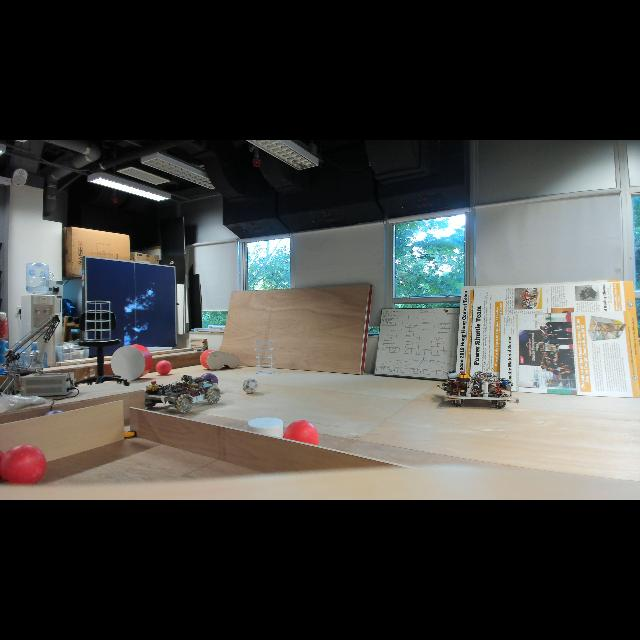P: (199, 372, 219, 390)
R: (0, 444, 48, 484), (283, 419, 321, 449), (156, 360, 172, 376)
S: (84, 300, 112, 342), (254, 340, 276, 374)
